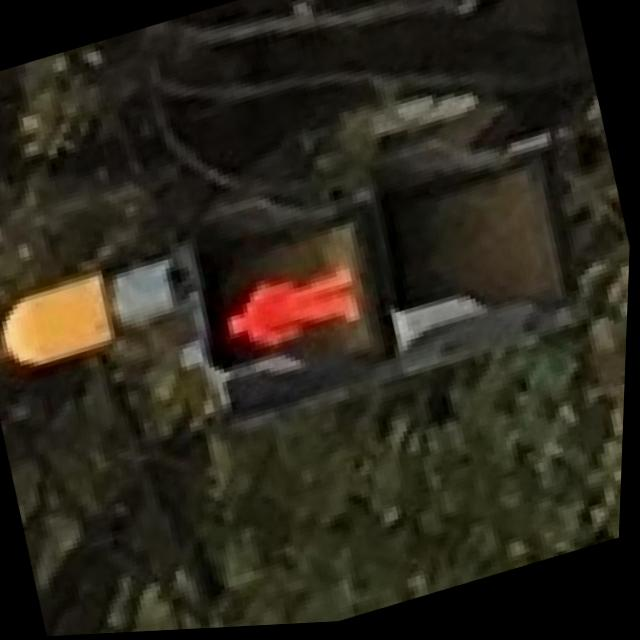red_light: (202, 231, 388, 388)
